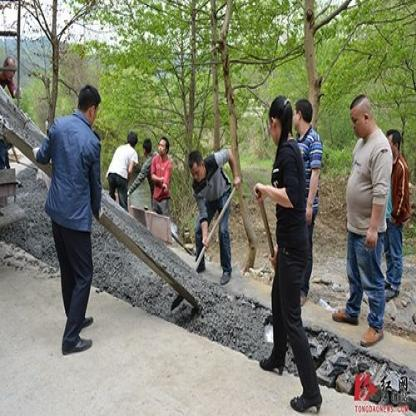sem_capacete: (266, 94, 294, 144), (349, 92, 375, 140), (77, 83, 101, 128), (293, 98, 314, 133), (385, 126, 403, 160), (188, 149, 206, 183), (0, 55, 17, 90), (157, 136, 170, 157), (127, 127, 138, 151), (142, 138, 152, 156)
sem_colete_refletivo: (44, 113, 104, 231), (344, 131, 394, 240), (269, 138, 309, 249), (190, 148, 234, 208), (297, 126, 324, 219), (388, 152, 412, 230), (107, 143, 140, 183), (149, 154, 173, 202), (139, 152, 155, 204)
